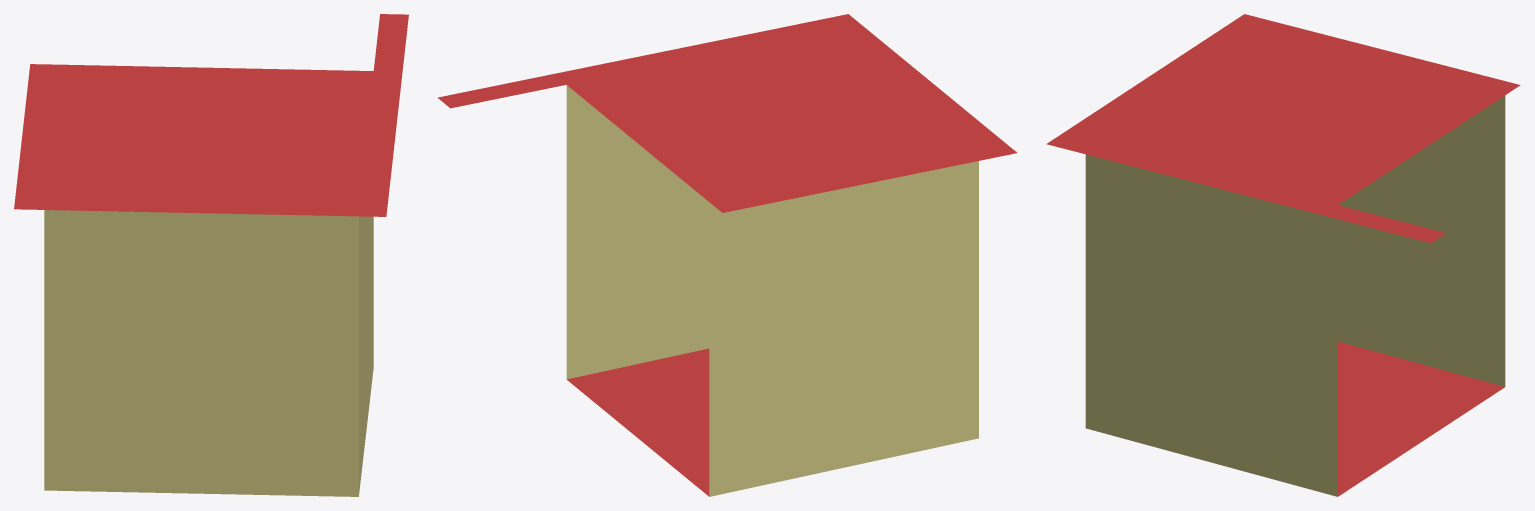
3 renders of one model, left to right at view 1: azimuth 30°, elevation 25°; view 2: azimuth 150°, elevation 25°; view 3: azimuth 270°, elevation 25°, orthographic.
Bounding box in the file's own units: 9.77 × 8.34 × 5.69.
